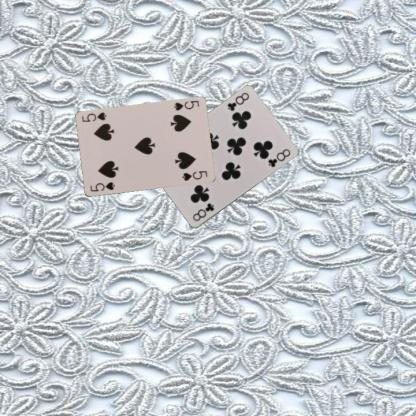5s: (171, 98, 200, 112), (87, 180, 116, 193)
8c: (190, 200, 216, 223), (225, 90, 250, 113)
